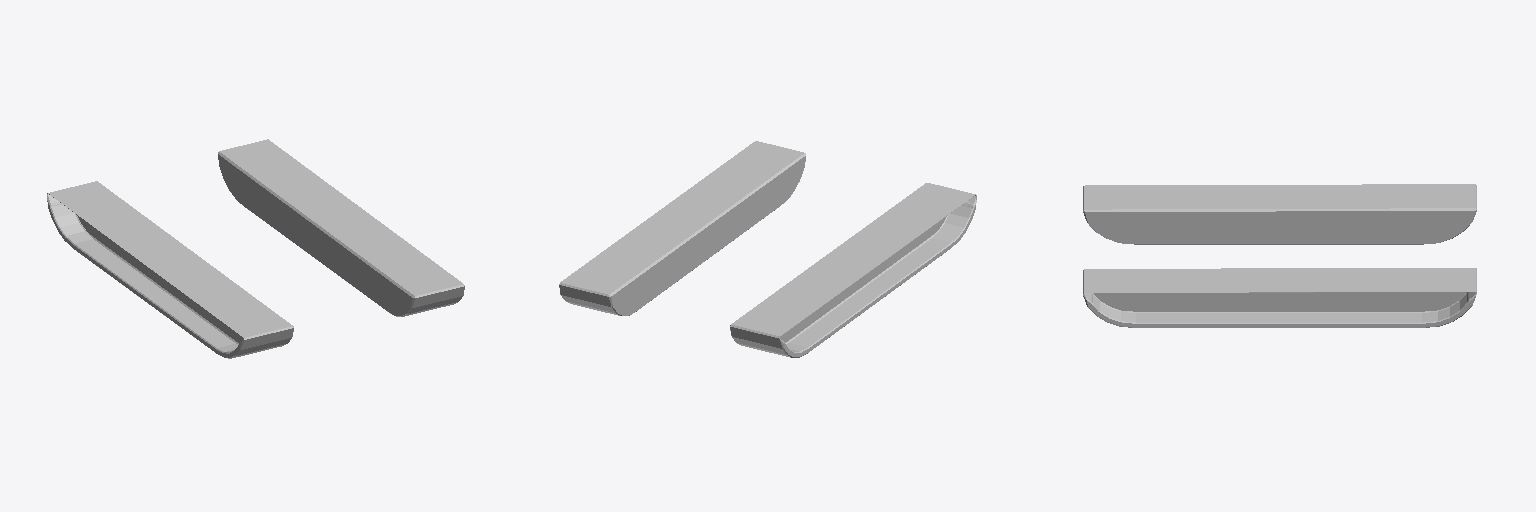
The model's file is large_tank_tracks.obj.
3 renders of one model, left to right at view 1: azimuth 30°, elevation 25°; view 2: azimuth 150°, elevation 25°; view 3: azimuth 270°, elevation 25°, orthographic.
Parts seen in each view (by area): view 1: Plane.004_Plane.013; view 2: Plane.004_Plane.013; view 3: Plane.004_Plane.013.
Part boxes in pixels (bbox=[...]): Plane.004_Plane.013: bbox=[47, 139, 464, 358]; Plane.004_Plane.013: bbox=[559, 141, 976, 357]; Plane.004_Plane.013: bbox=[1083, 184, 1476, 327].
Bounding box in the file's own units: 0.5997 × 0.0927 × 0.9156.